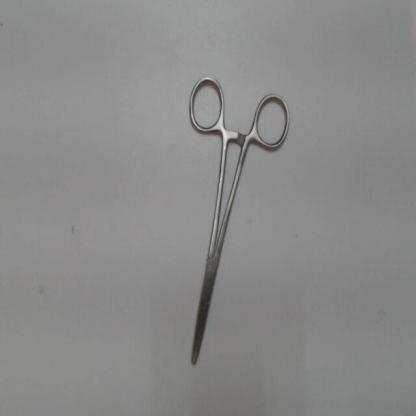Mayo Needle Holder: (181, 68, 296, 377)
